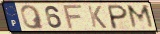6: (44, 5, 64, 30)
F: (62, 4, 85, 31)
K: (86, 5, 109, 30)
M: (126, 4, 157, 30)
P: (107, 4, 129, 30)
Q: (19, 4, 46, 31)
